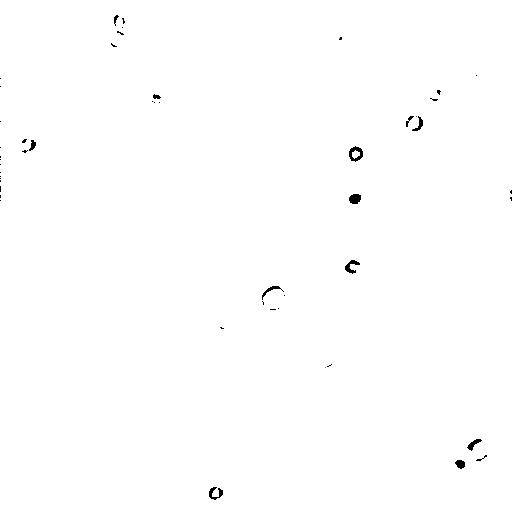micro-algae: (22, 0, 91, 47), (333, 178, 371, 216), (442, 445, 477, 476), (316, 361, 347, 394), (465, 434, 493, 463), (261, 282, 287, 311), (418, 51, 447, 73), (29, 67, 54, 88), (324, 25, 347, 47), (462, 71, 485, 92), (402, 113, 425, 134), (341, 255, 365, 273), (421, 85, 445, 101), (15, 135, 37, 152), (209, 483, 225, 503), (108, 32, 127, 47), (349, 143, 363, 162), (113, 14, 127, 30)
